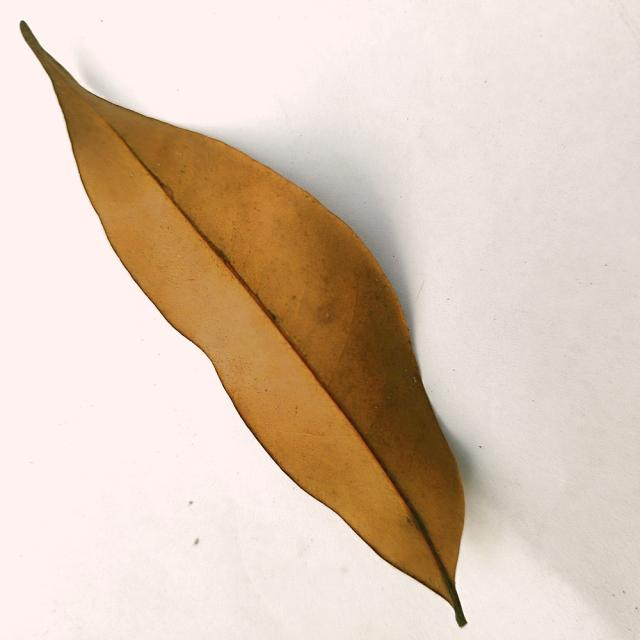Dry_Leaf-Lychee: (18, 21, 467, 628)
